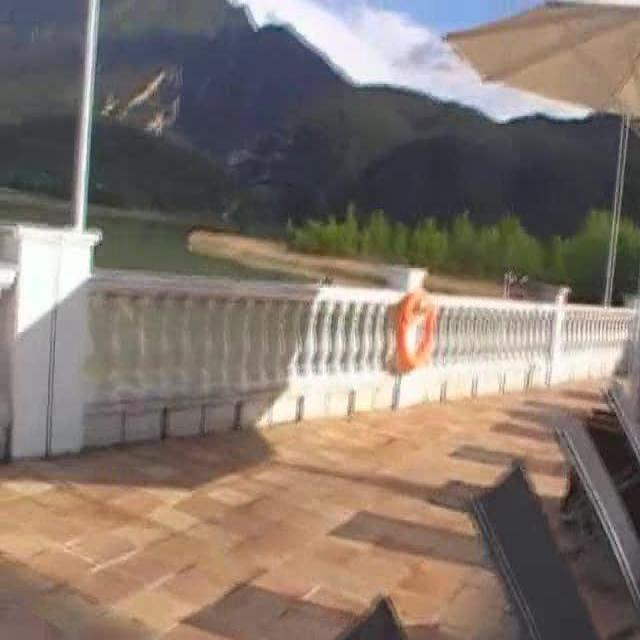other: (340, 292, 500, 398)
